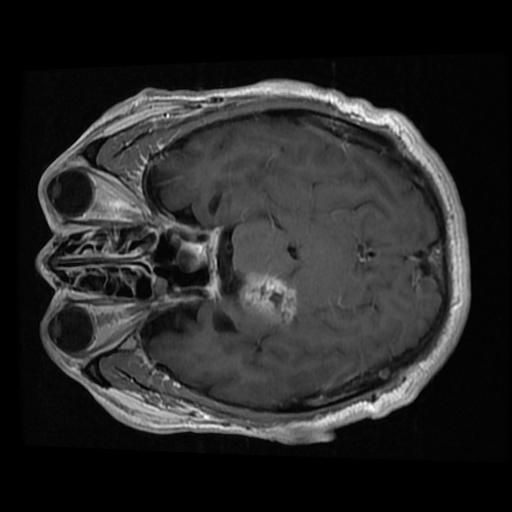meningioma: (239, 273, 295, 326)
